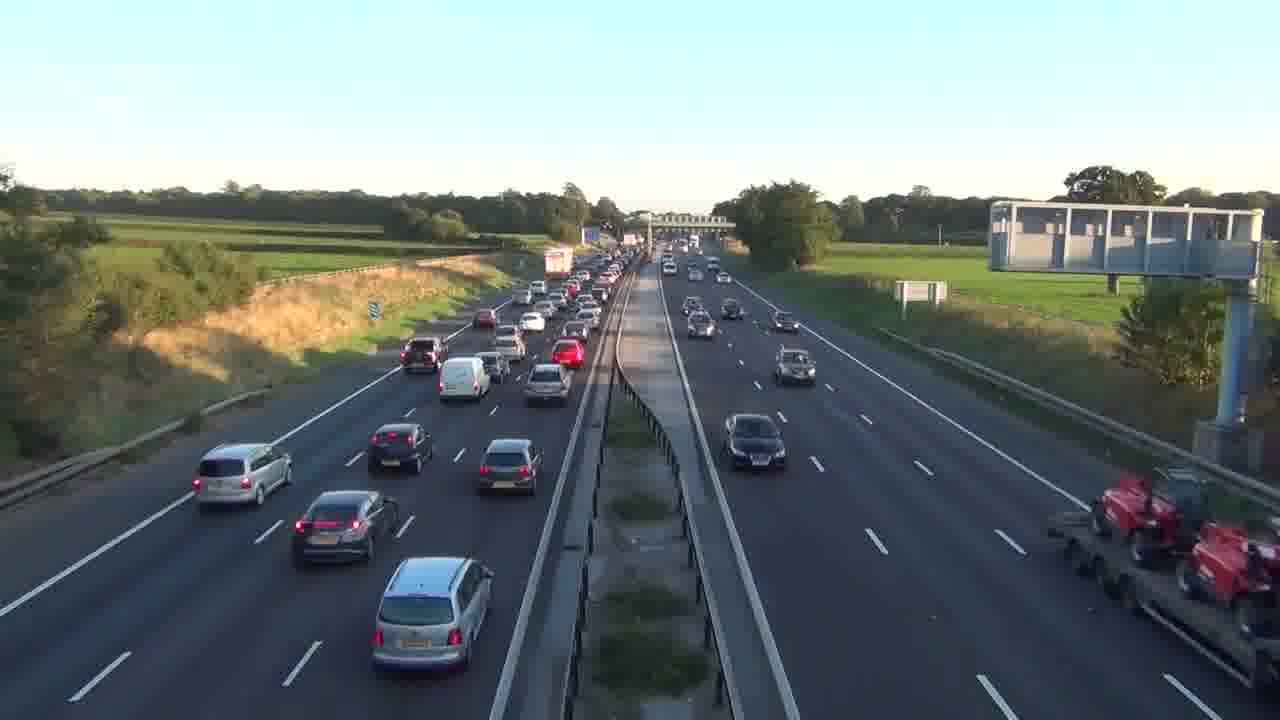car: (369, 555, 496, 676), (289, 489, 388, 568), (191, 442, 293, 509), (476, 437, 544, 497), (721, 411, 788, 471), (521, 363, 570, 406), (774, 346, 817, 385)
